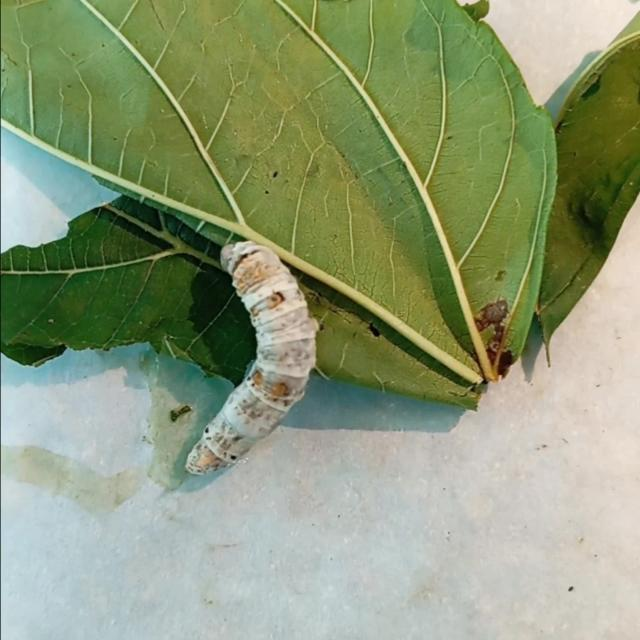Grasserie: (145, 180, 335, 509)
